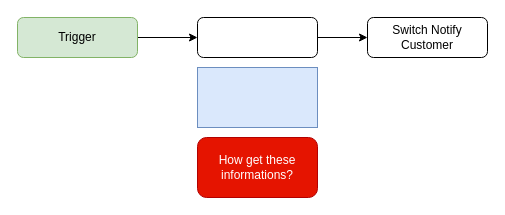
This 505x215 diagram has some shape labels left out. Each missing label, with the centre of its shape:
AE send to Switch: the point at 257,37
AE Send: URL JOB EMAIL: the point at 257,97
